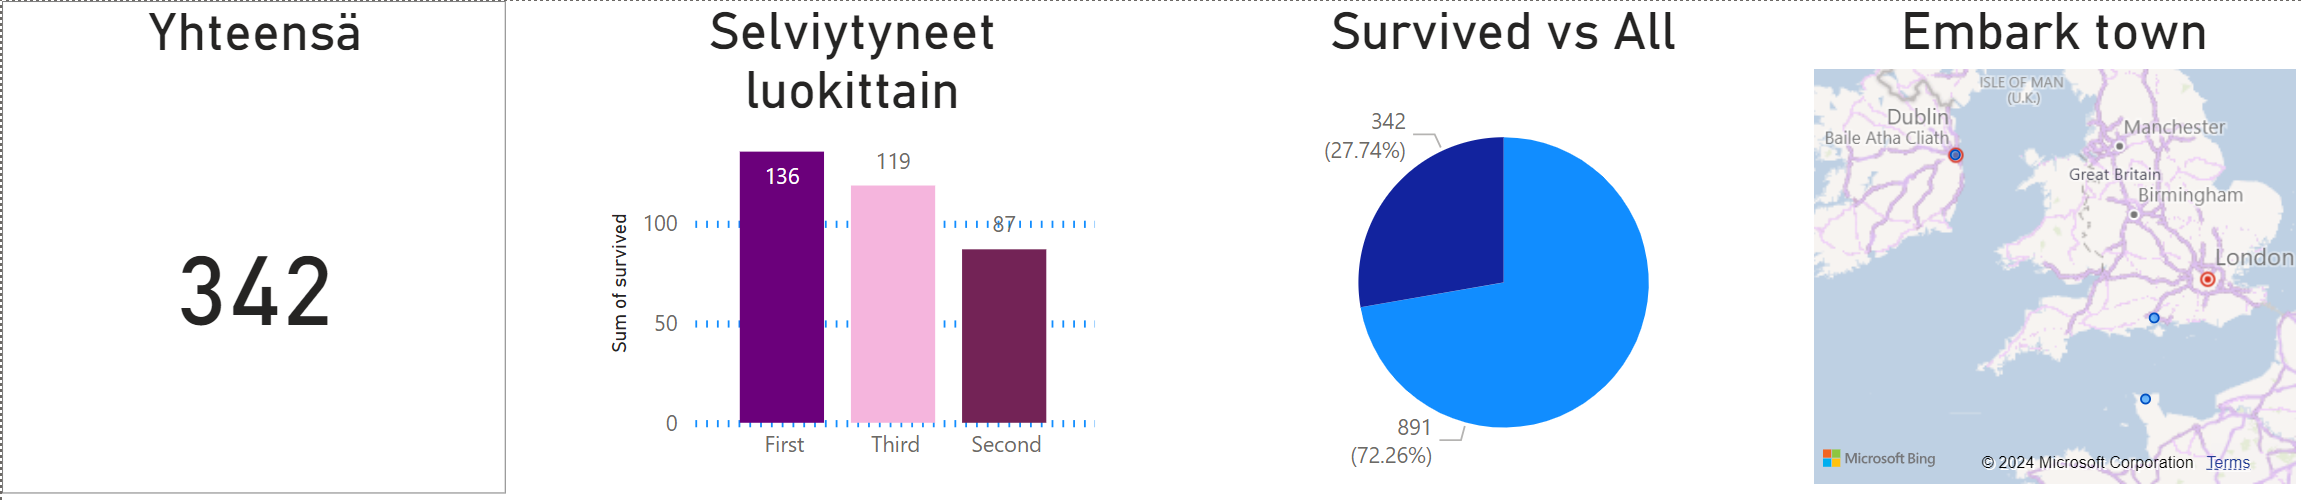

The page's visual inventory and layout, read from the dashboard file:
{"tool":"powerbi","page":{"name":"Sivu 1","canvas":[1280,720],"ordinal":0},"visuals":[{"type":"columnChart","title":"Selviytyneet luokittain","fields":{"Category":["titanic.class"],"Y":["Sum(titanic.survived)"]},"box":[332.7,0,279.9,273.9],"z":0},{"type":"card","title":"Yhteensä","fields":{"Values":["Sum(titanic.survived)"]},"box":[0,0,279.9,273.9],"z":1000},{"type":"pieChart","title":"Survived vs All","fields":{"Y":["CountNonNull(titanic.survived)","Sum(titanic.survived)1"]},"box":[694.8,0,279.9,279.9],"z":2000},{"type":"map","title":"Embark town","fields":{"Category":["titanic.embark_town (edit)"]},"box":[1002.1,0,277.9,273.9],"z":3000}]}

Visuals, with their boxes on the page's 1280x720 design canvas (x1, y1, x2, y2). These are canvas units, not pixel positions in the 2304x501 screenshot, which may show the page scaled, cropped or inside an application window:
"Selviytyneet luokittain" columnChart: 333:0:613:274
"Yhteensä" card: 0:0:280:274
"Survived vs All" pieChart: 695:0:975:280
"Embark town" map: 1002:0:1280:274
